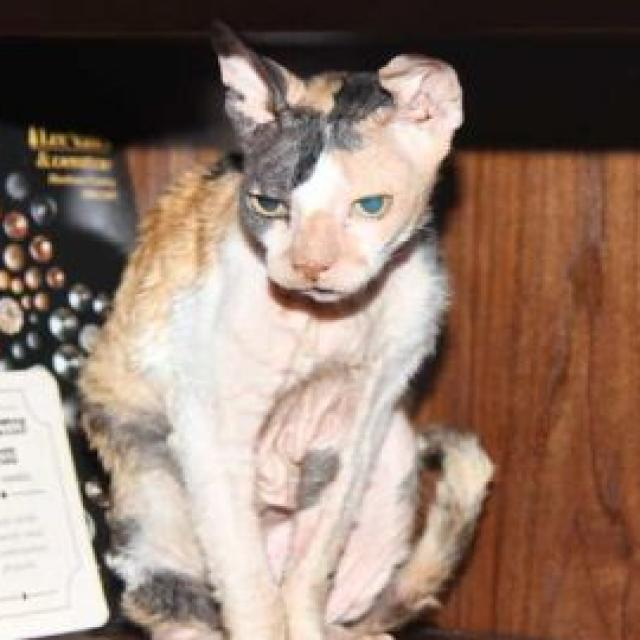Cornish Rex: (74, 0, 502, 640)
